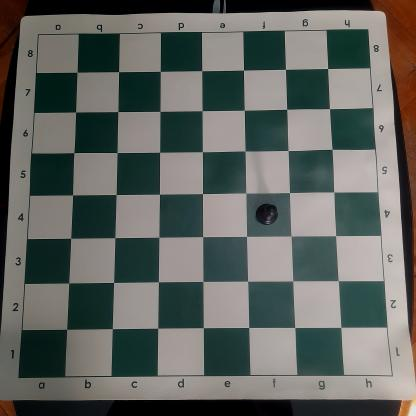black-pawn: (254, 202, 279, 227)
